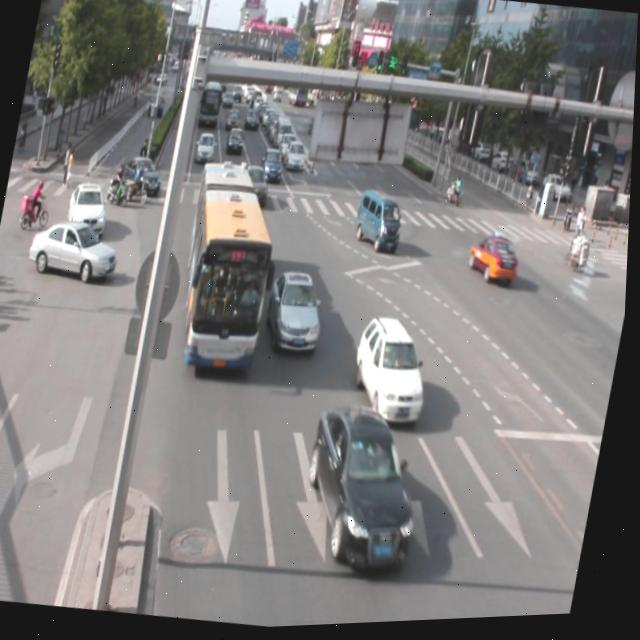car: (298, 402, 438, 579), (349, 315, 440, 430), (265, 269, 334, 359), (467, 234, 526, 291)
truck: (353, 190, 410, 259)
van: (171, 162, 289, 378)
